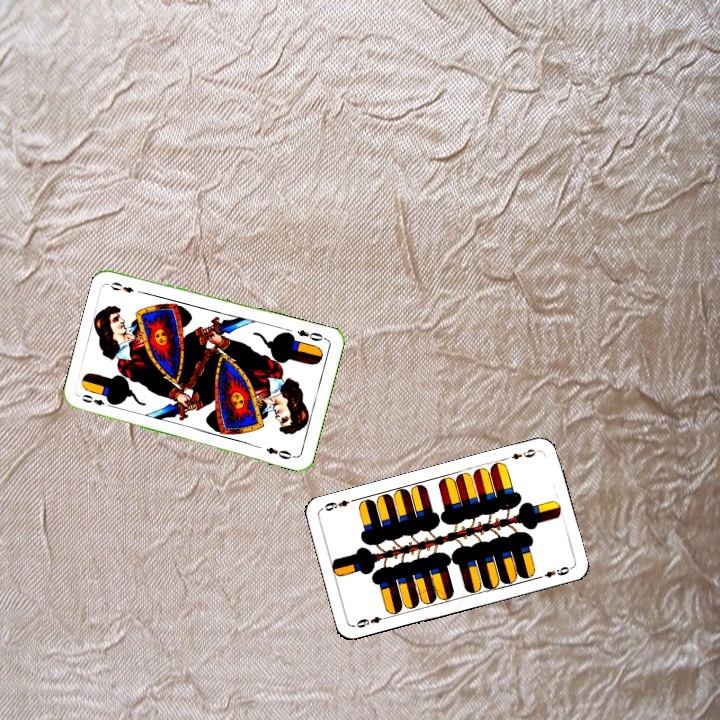E9: (352, 612, 391, 631), (501, 445, 541, 462)
EO: (293, 326, 329, 344), (78, 390, 107, 408)
